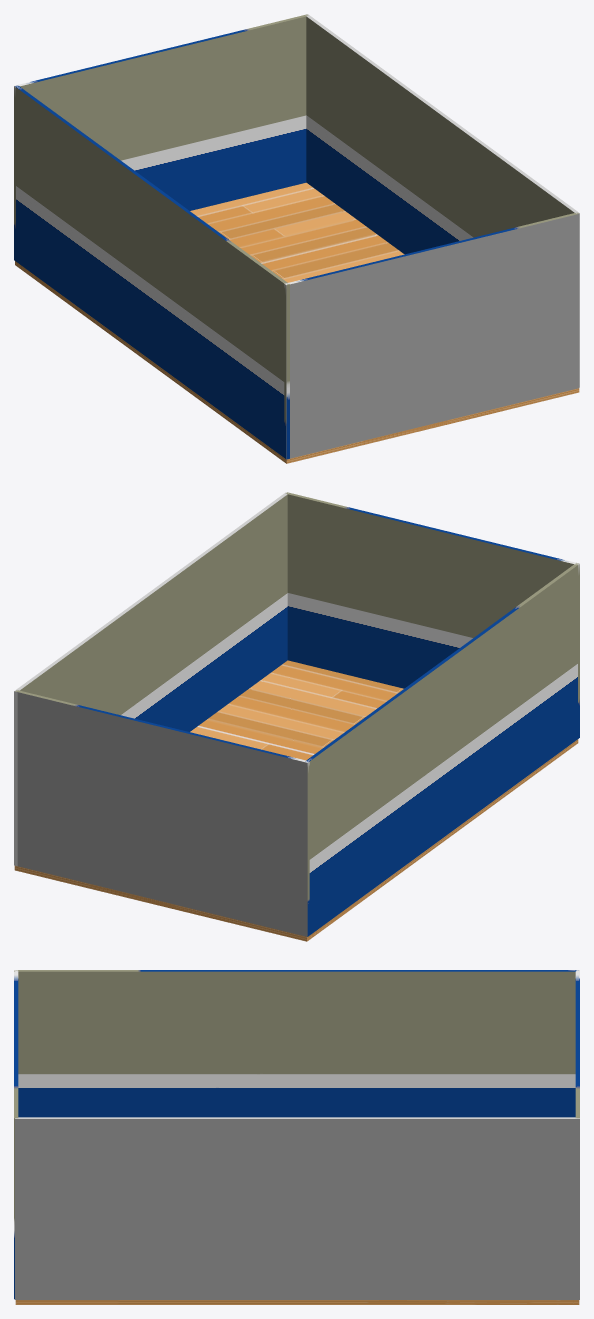
File: testfinalgymn.fbx
3 views of the same model, one above another, from view 1: azimuth 30°, elevation 25°; view 2: azimuth 150°, elevation 25°; view 3: azimuth 270°, elevation 25° (orthographic). The views are drawn at different scales.
Visible parts, largest first — view 1: pCube6; view 2: pCube6; view 3: pCube6.
Part boxes in pixels (<box>): pCube6: <box>14,14,579,463</box>; pCube6: <box>14,492,579,941</box>; pCube6: <box>14,970,579,1304</box>.
Bounding box in the file's own units: 73.99 × 43.14 × 119.
Materials: 7 (5 with a texture image).
